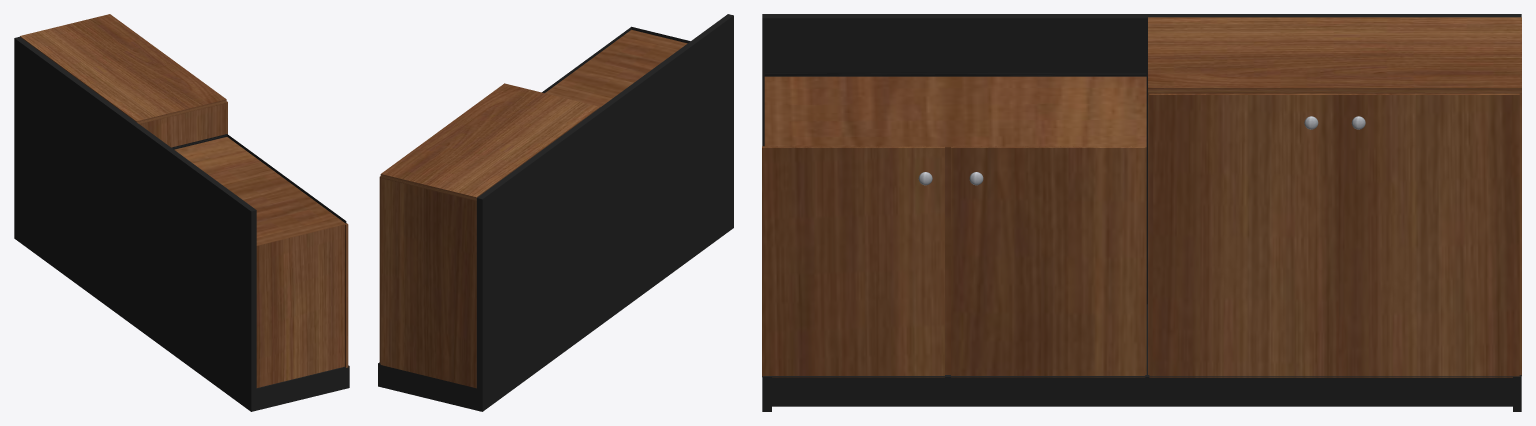
Rendered from muebleCafeteria 1.fbx.
3 renders of one model, left to right at view 1: azimuth 30°, elevation 25°; view 2: azimuth 150°, elevation 25°; view 3: azimuth 270°, elevation 25°, orthographic. The views are drawn at different scales.
Parts seen in each view (by area): view 1: Cubo; view 2: Cubo; view 3: Cubo.
Boxes of the visible parts, x1,y1,x2,y2 form: Cubo: [14, 14, 349, 411]; Cubo: [378, 14, 733, 411]; Cubo: [762, 14, 1521, 411].
Bounding box in the file's own units: 38.33 × 70.23 × 150.
